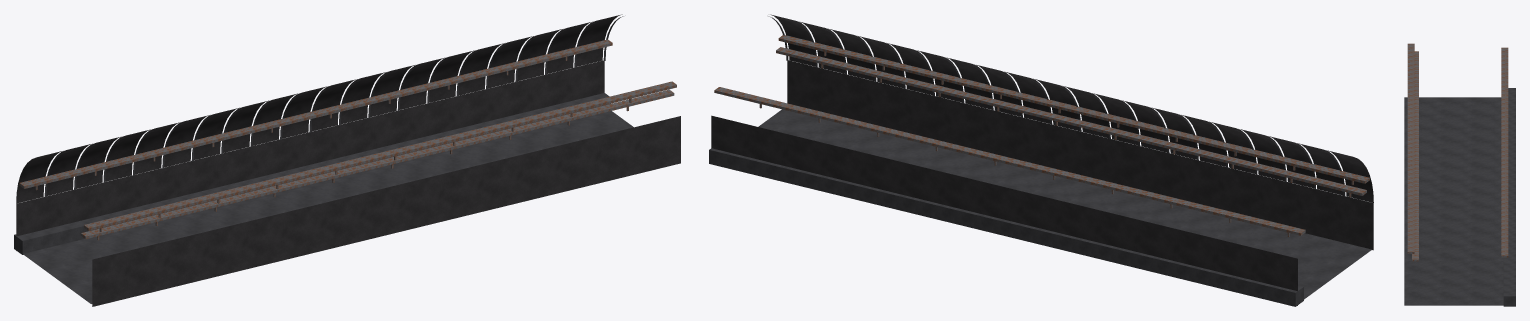
File: tunnel_tube.obj
The picture shows the model from 3 angles, left to right: view 1: azimuth 30°, elevation 25°; view 2: azimuth 150°, elevation 25°; view 3: azimuth 270°, elevation 25°; orthographic projection. The views are drawn at different scales.
Visible parts, largest first — view 1: tunnel_tube; view 2: tunnel_tube; view 3: tunnel_tube.
Part boxes in pixels (x1,y1,x2,y2): tunnel_tube: [14, 14, 680, 306]; tunnel_tube: [709, 14, 1373, 306]; tunnel_tube: [1404, 43, 1515, 306].
Size of the model in its own units: 24 by 4.55 by 5.55.
